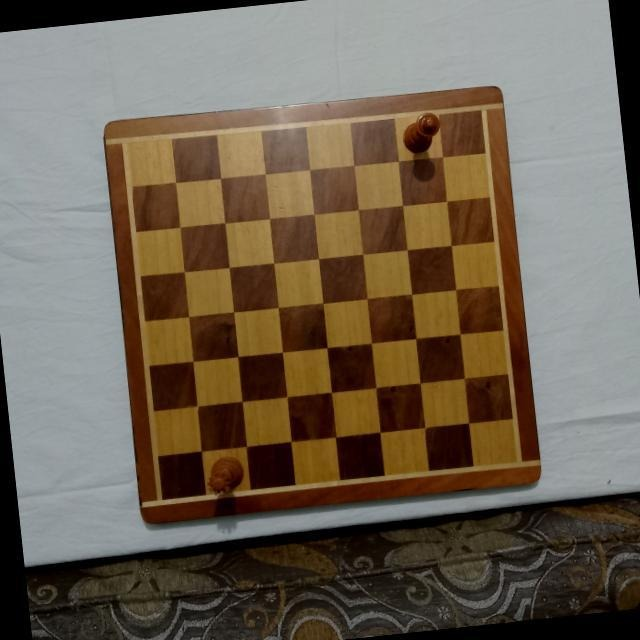white-king: (401, 109, 443, 155)
white-queen: (202, 453, 246, 499)
